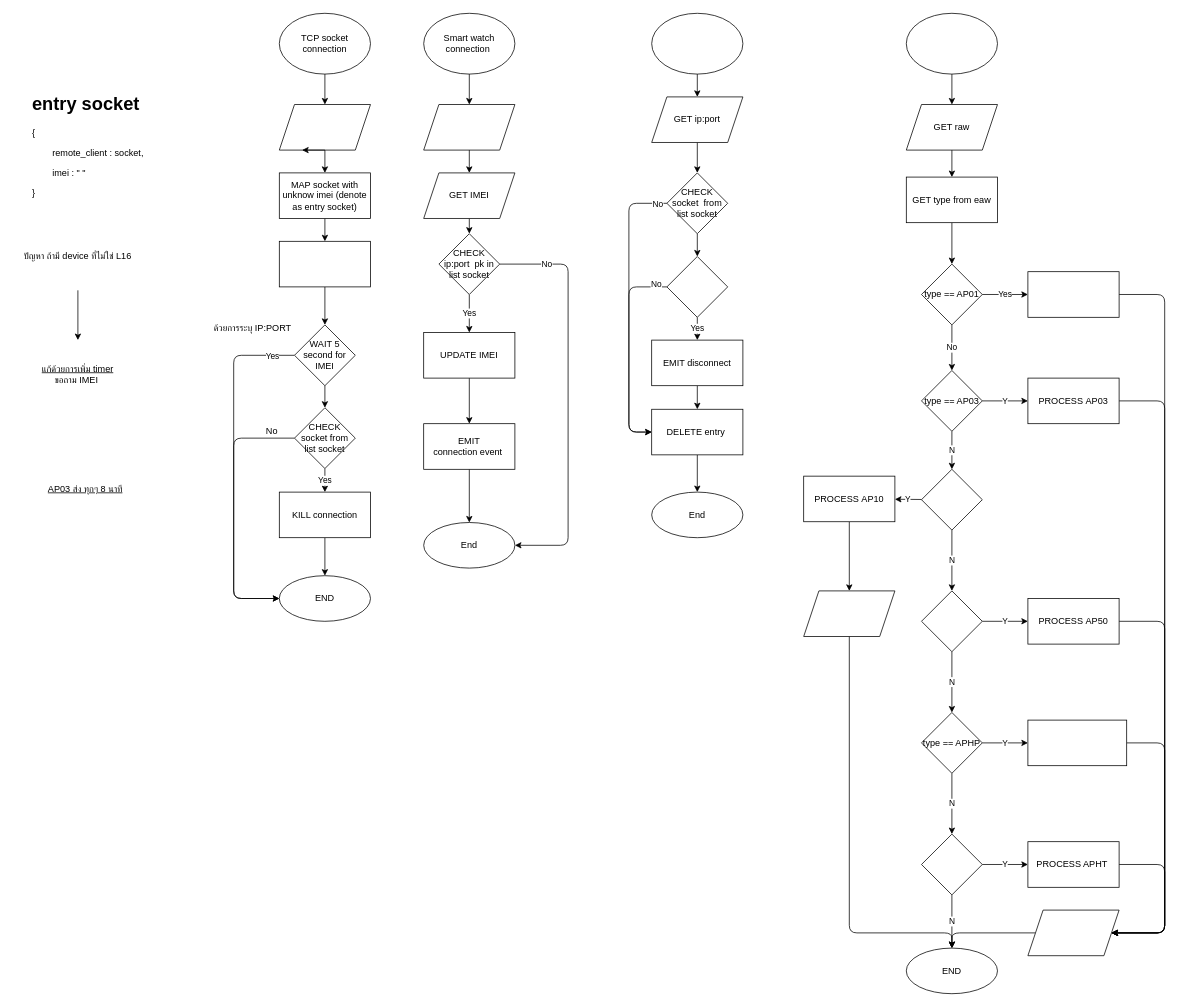
The diagram is 1184 pixels wide and 1007 high, and some of its shapes have lost their labels. Each missing label, with the centre of its shape:
"data evet" belongs at (x=952, y=43).
"disconnect event" belongs at (x=697, y=43).
"GET pk type AP0" belongs at (x=469, y=127).
"GET socket" belongs at (x=324, y=127).
"HAS IMEI" belongs at (x=697, y=286).
"PROCESS AP01" belongs at (x=1073, y=294).
"PROCESS APHP" belongs at (x=1077, y=742).
"PUSH entry socket to list socket" belongs at (x=324, y=264).
"REPLY AP10" belongs at (x=849, y=613).
"REPLY default" belongs at (x=1073, y=932).
"type == AP10" belongs at (x=951, y=499).
"type == AP50" belongs at (x=951, y=621).
"type == APHT" belongs at (x=951, y=864).
